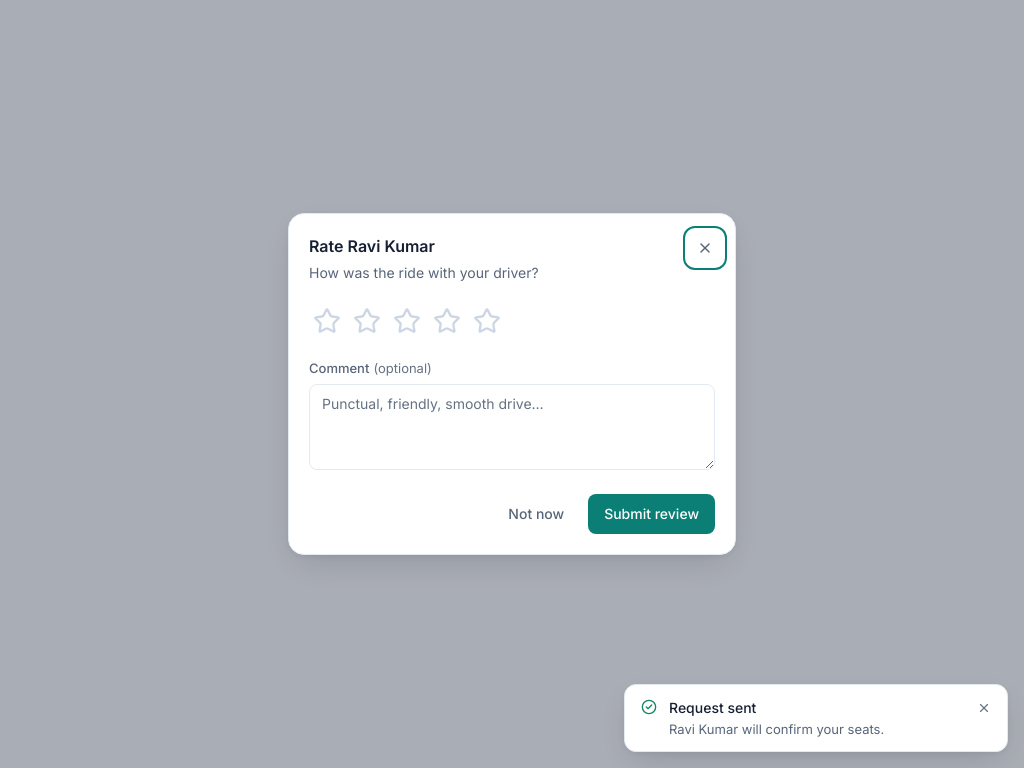
review submission › requires a rating, then posts the review
Click the button "Submit review" at (652, 514), box [588,494,715,534]
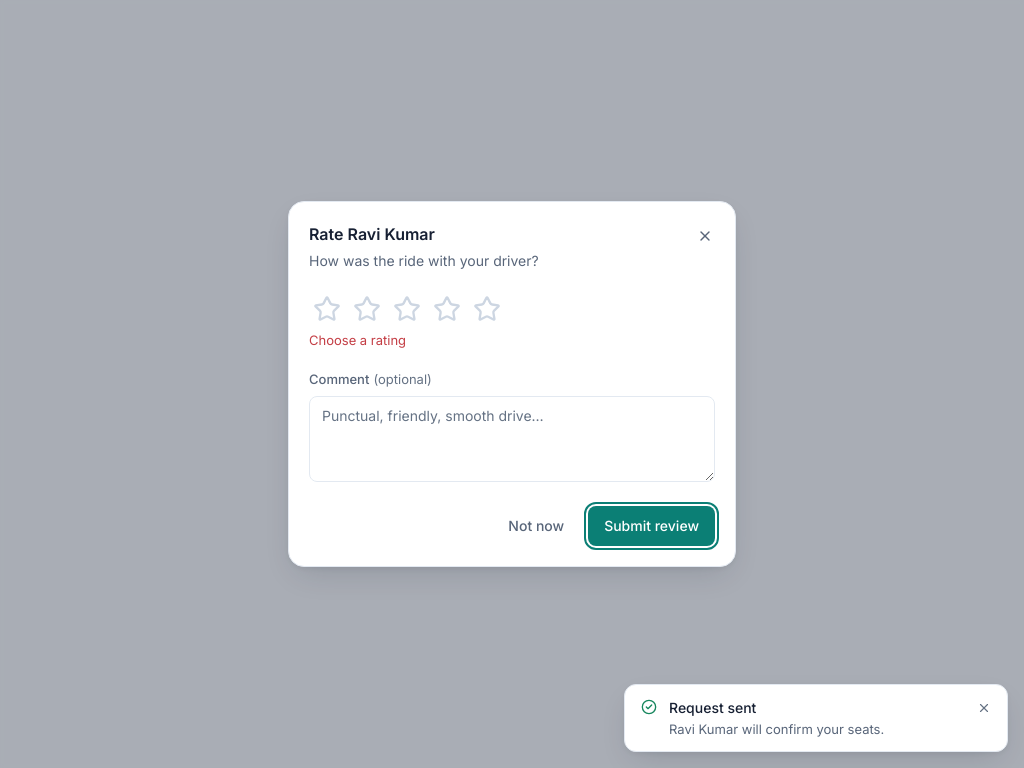
Expected: the text "Choose a rating" is shown, [309,332,406,348]
Click the radio button named "4 stars" at (447, 309), box [429,291,465,327]
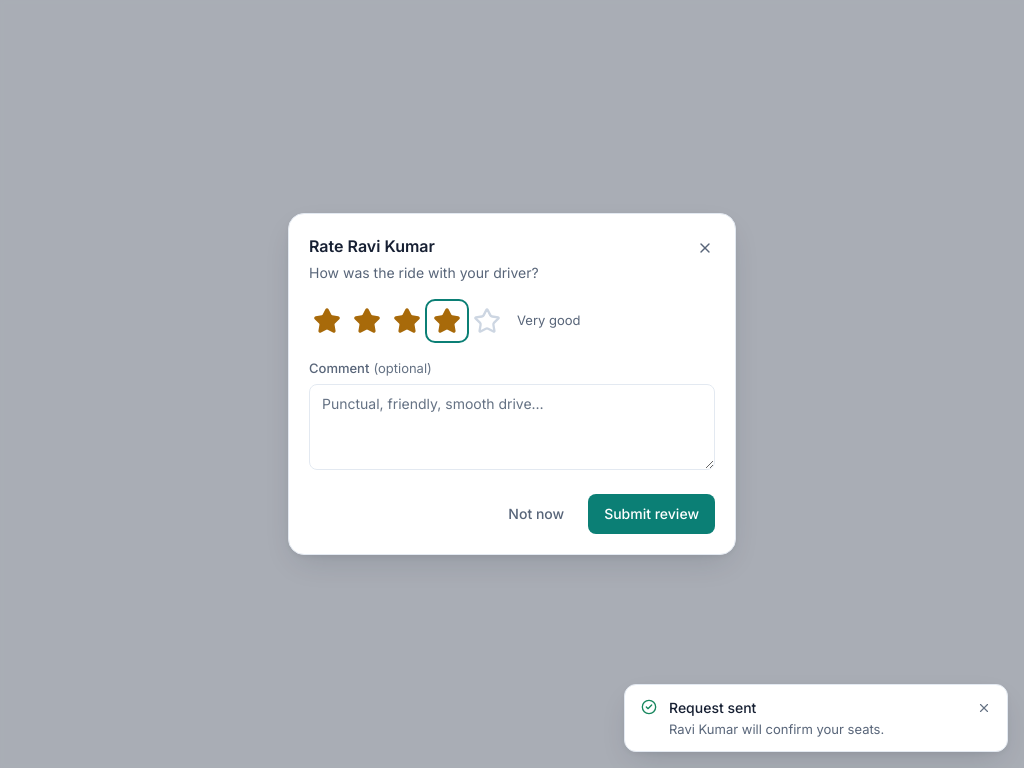
Type "Smooth drive" into the text box labelled "Comment(optional)" at (512, 427), box [309,384,715,470]
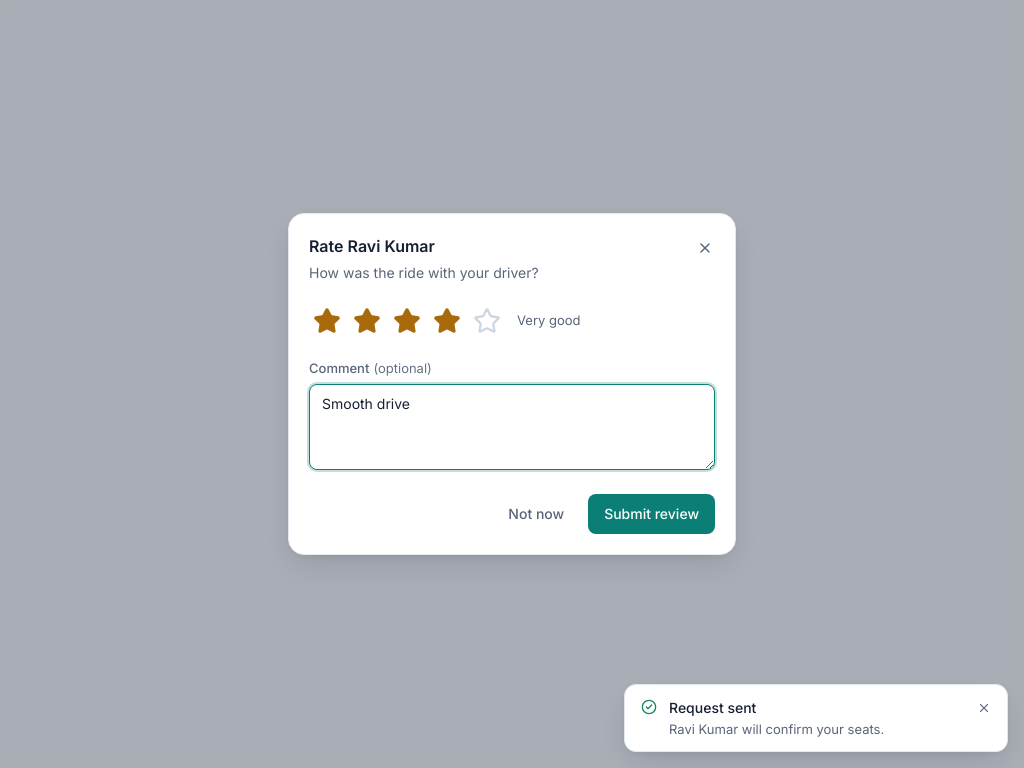
Click the button "Submit review" at (652, 514), box [588,494,715,534]
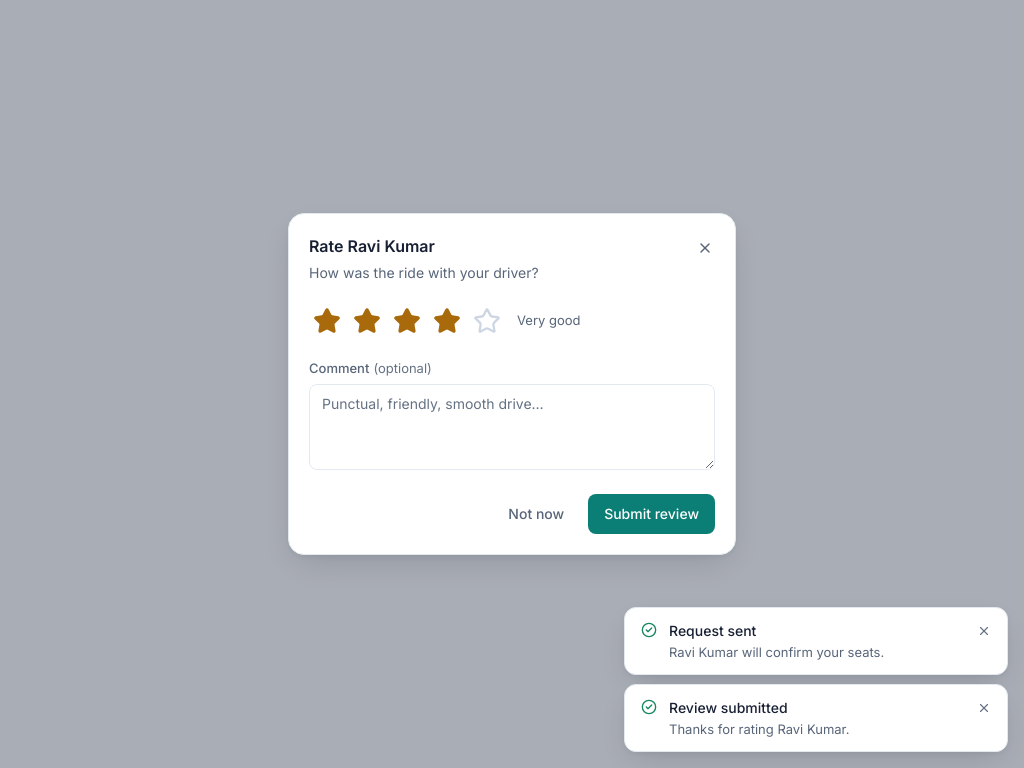
Expected: the text "Review submitted" is shown, [669,698,788,716]
